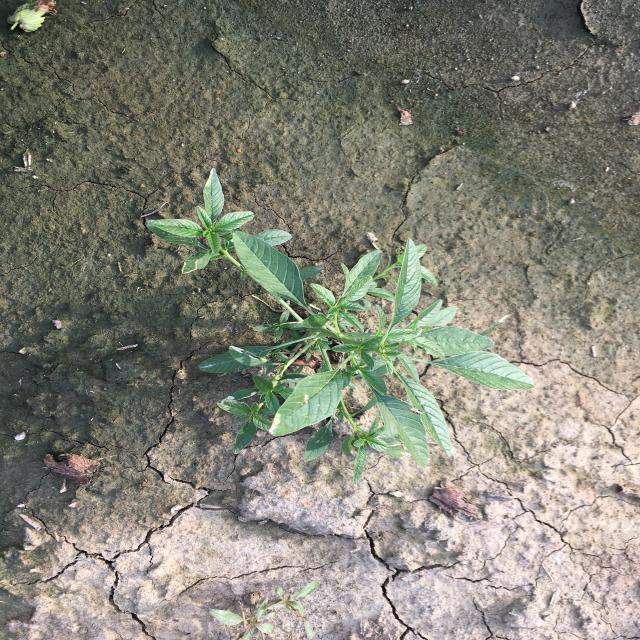Waterhemp: (197, 230, 537, 485), (142, 166, 296, 276)
